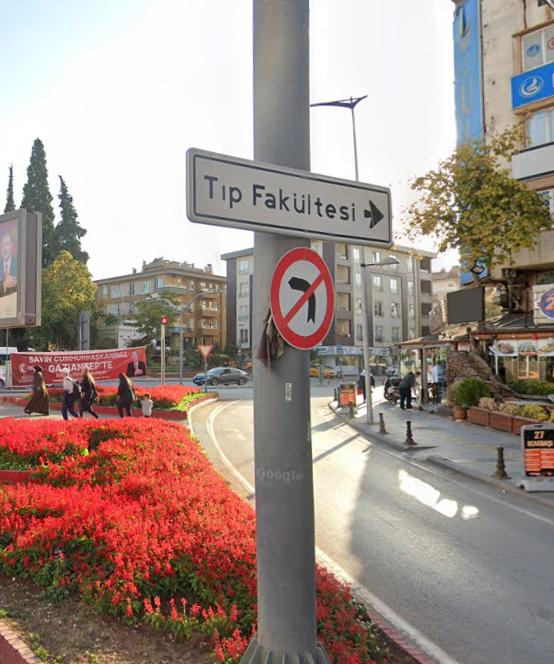leftturnsareforbidden: (271, 246, 337, 350)
